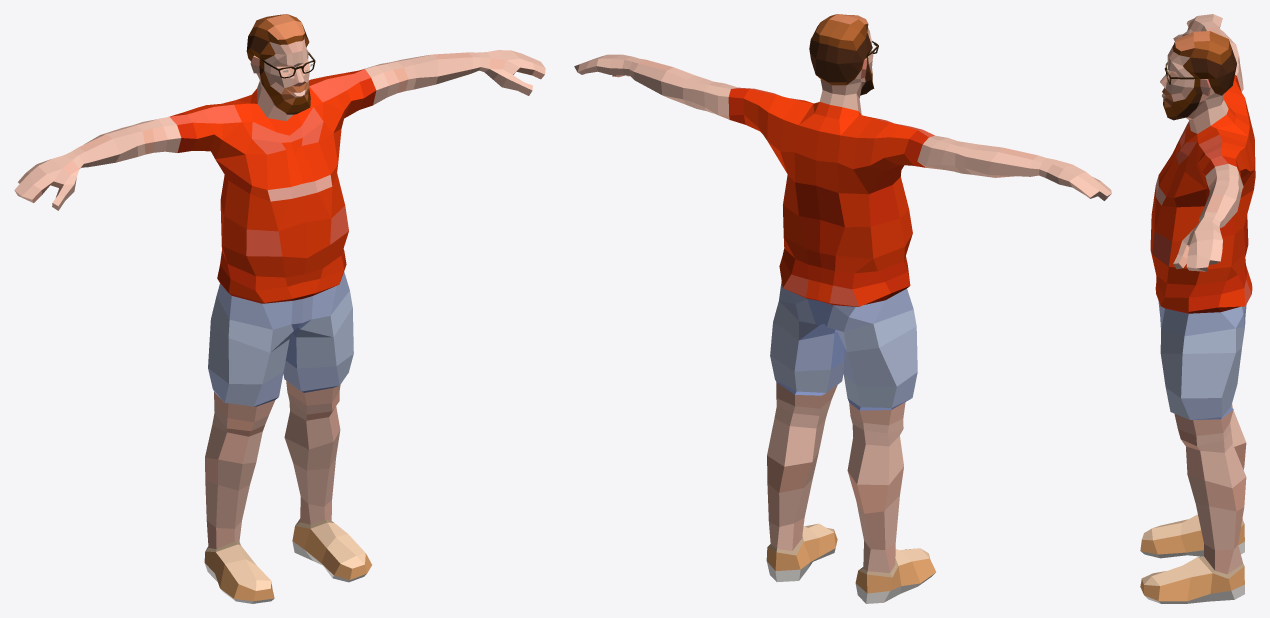
The model's file is casual_Male_K-model.fbx.
3 views of the same model, side by side, from view 1: azimuth 30°, elevation 25°; view 2: azimuth 150°, elevation 25°; view 3: azimuth 270°, elevation 25° (orthographic). The views are drawn at different scales.
Visible parts, largest first — view 1: casual_Male_K; view 2: casual_Male_K; view 3: casual_Male_K.
Part boxes in pixels (bbox=[...]): casual_Male_K: bbox=[14, 14, 545, 603]; casual_Male_K: bbox=[574, 14, 1111, 603]; casual_Male_K: bbox=[1140, 14, 1255, 603].
Bounding box in the file's own units: 168 × 168 × 32.68.
1 material, 1 textured.
